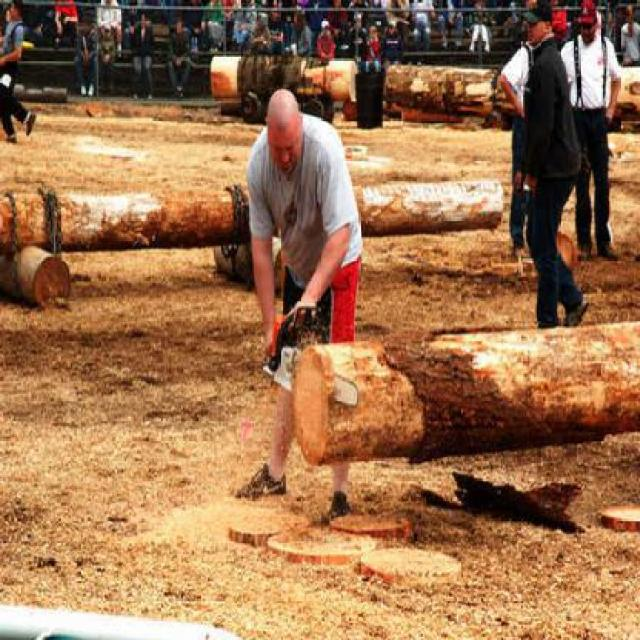Chainsaw: (258, 304, 360, 408)
